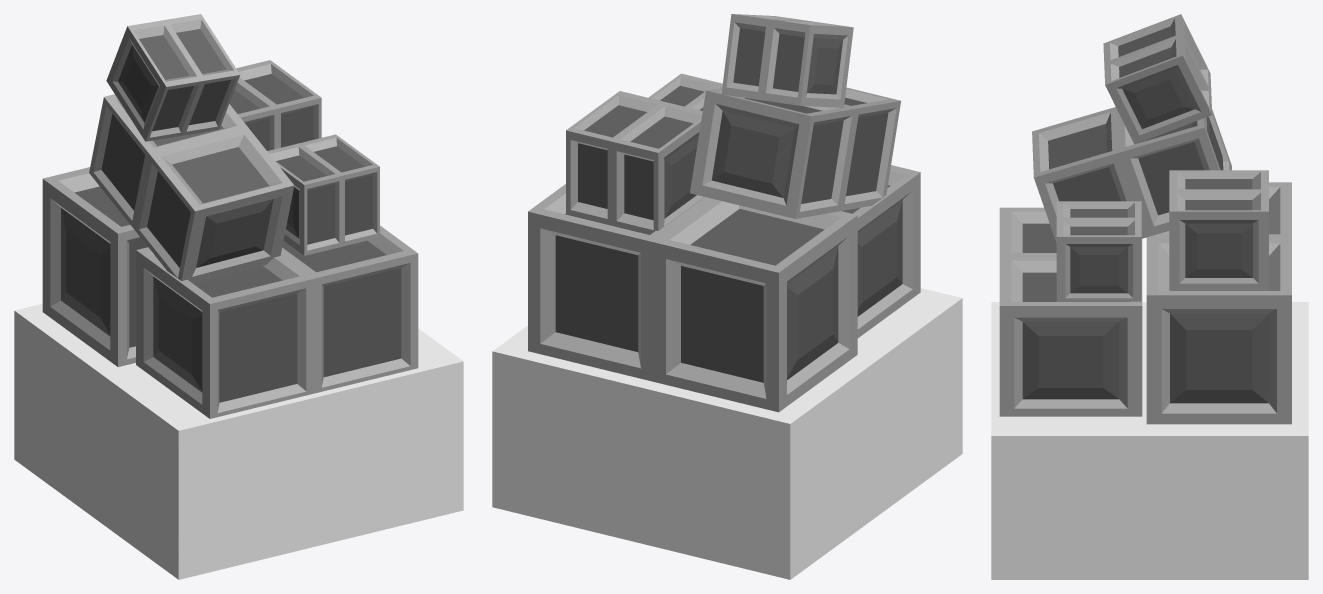
Rendered from BOXES.glb.
3 views of the same model, side by side, from view 1: azimuth 30°, elevation 25°; view 2: azimuth 150°, elevation 25°; view 3: azimuth 270°, elevation 25° (orthographic). The views are drawn at different scales.
Visible parts, largest first — view 1: Cube; view 2: Cube; view 3: Cube.
Part boxes in pixels (x1,y1,x2,y2): Cube: (14, 14, 463, 579); Cube: (492, 14, 962, 579); Cube: (991, 14, 1308, 579).
Size of the model in its own units: 2 by 3.16 by 2.
Materials: 2 (1 with a texture image).
